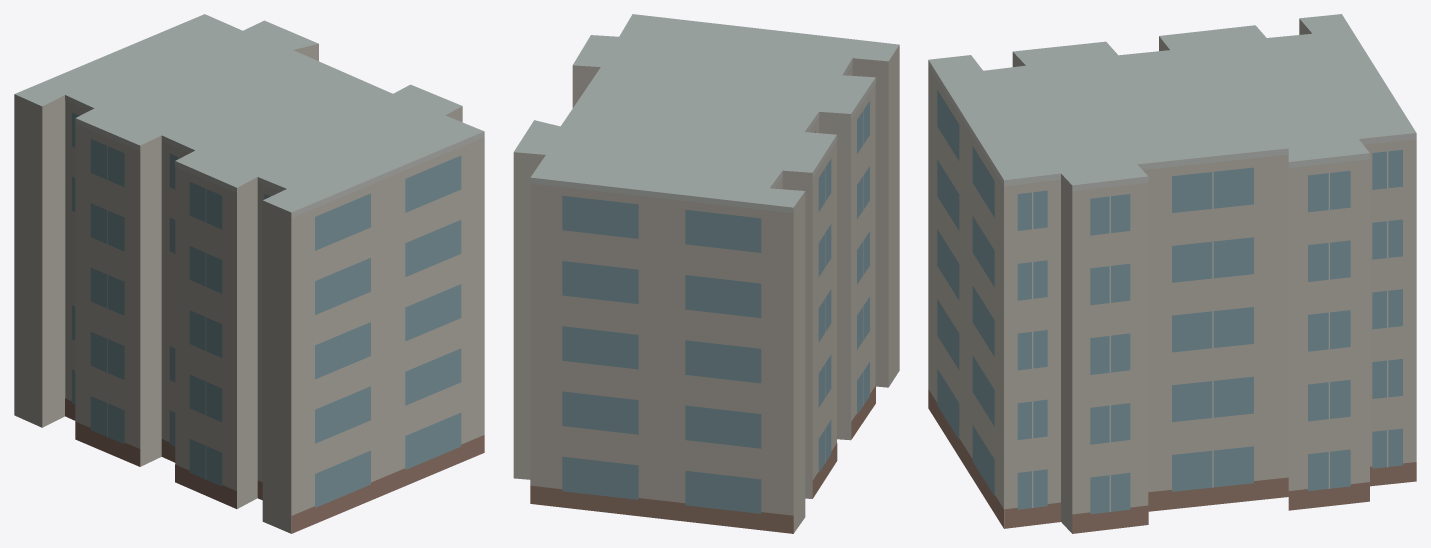
The model's file is survey-upis-32751883.glb.
The picture shows the model from 3 angles, left to right: view 1: azimuth 30°, elevation 25°; view 2: azimuth 150°, elevation 25°; view 3: azimuth 270°, elevation 25°; orthographic projection. The views are drawn at different scales.
Parts seen in each view (by area): view 1: survey-upis-32751883.tmp; view 2: survey-upis-32751883.tmp; view 3: survey-upis-32751883.tmp.
Boxes of the visible parts, <box> form: survey-upis-32751883.tmp: <box>14,14,484,533</box>; survey-upis-32751883.tmp: <box>513,14,899,533</box>; survey-upis-32751883.tmp: <box>928,14,1416,533</box>.
Bounding box in the file's own units: 14.67 × 13.9 × 17.66.
